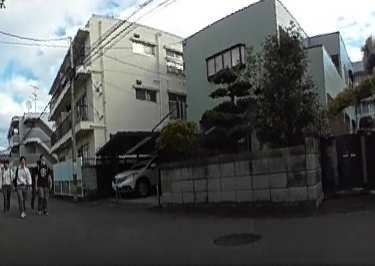person: (13, 155, 31, 216), (37, 155, 53, 216), (32, 159, 40, 205)
